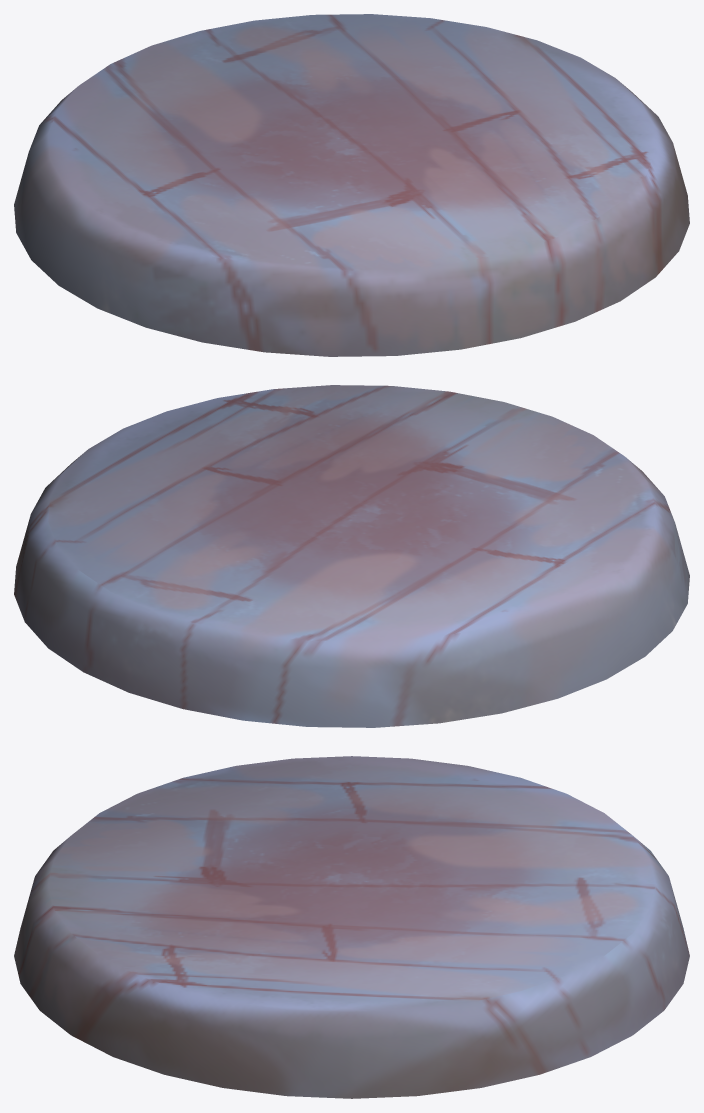
The model's file is AreaDePouso.fbx.
3 views of the same model, one above another, from view 1: azimuth 30°, elevation 25°; view 2: azimuth 150°, elevation 25°; view 3: azimuth 270°, elevation 25° (orthographic).
Parts seen in each view (by area): view 1: AreaDePouso; view 2: AreaDePouso; view 3: AreaDePouso.
Boxes of the visible parts, bbox=[...] form: AreaDePouso: bbox=[14, 14, 689, 356]; AreaDePouso: bbox=[14, 385, 689, 727]; AreaDePouso: bbox=[14, 756, 689, 1098].
Bounding box in the file's own units: 286 × 286 × 33.38.
